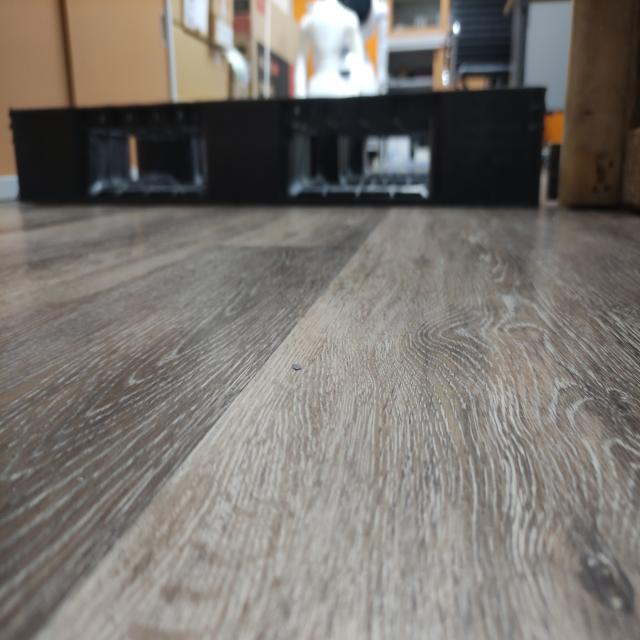block: (435, 90, 549, 210), (204, 99, 298, 202), (4, 104, 94, 208)
front: (8, 85, 550, 210)
